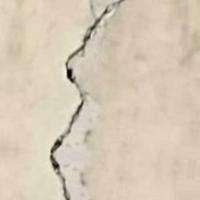crack: (34, 0, 121, 199)
